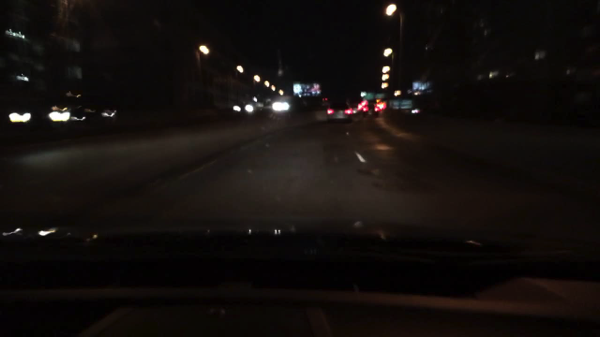car: (5, 94, 118, 125), (326, 101, 354, 124), (232, 99, 264, 112), (270, 102, 296, 112), (360, 104, 379, 117)
